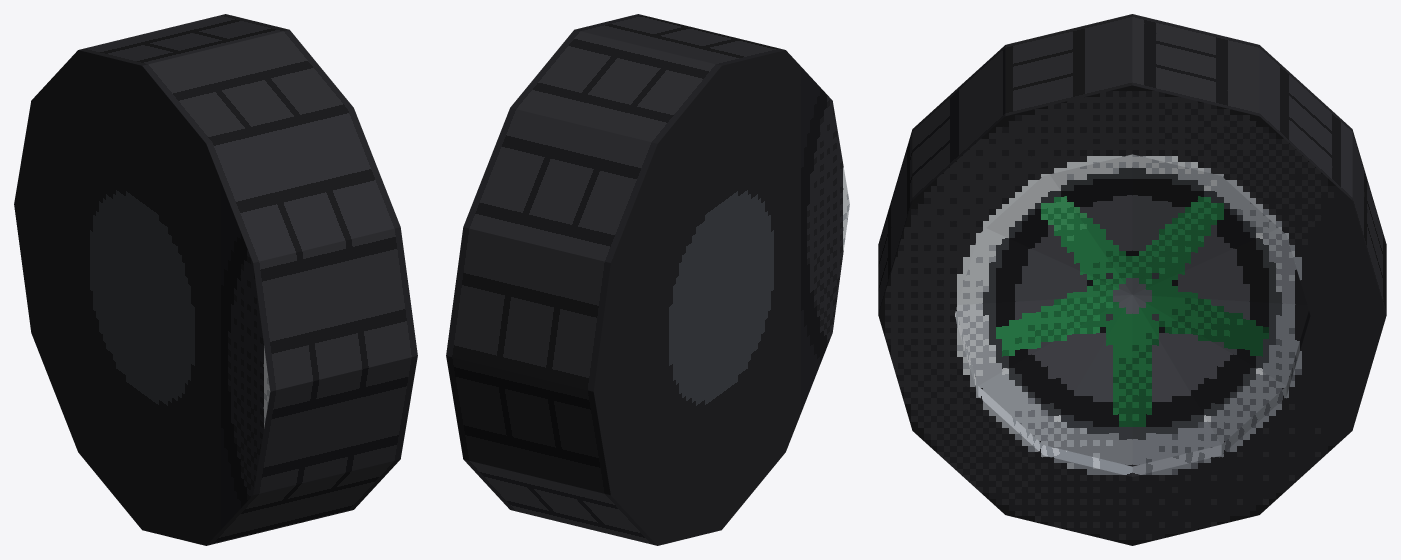
File: wheel_five.glb
3 renders of one model, left to right at view 1: azimuth 30°, elevation 25°; view 2: azimuth 150°, elevation 25°; view 3: azimuth 270°, elevation 25°, orthographic.
Parts seen in each view (by area): view 1: wheel_five; view 2: wheel_five; view 3: wheel_five.
Part boxes in pixels (<box>): wheel_five: <box>14,14,417,545</box>; wheel_five: <box>446,14,849,545</box>; wheel_five: <box>878,14,1386,545</box>.
Bounding box in the file's own units: 0.205 × 0.6163 × 0.6163.
1 material, 1 textured.
